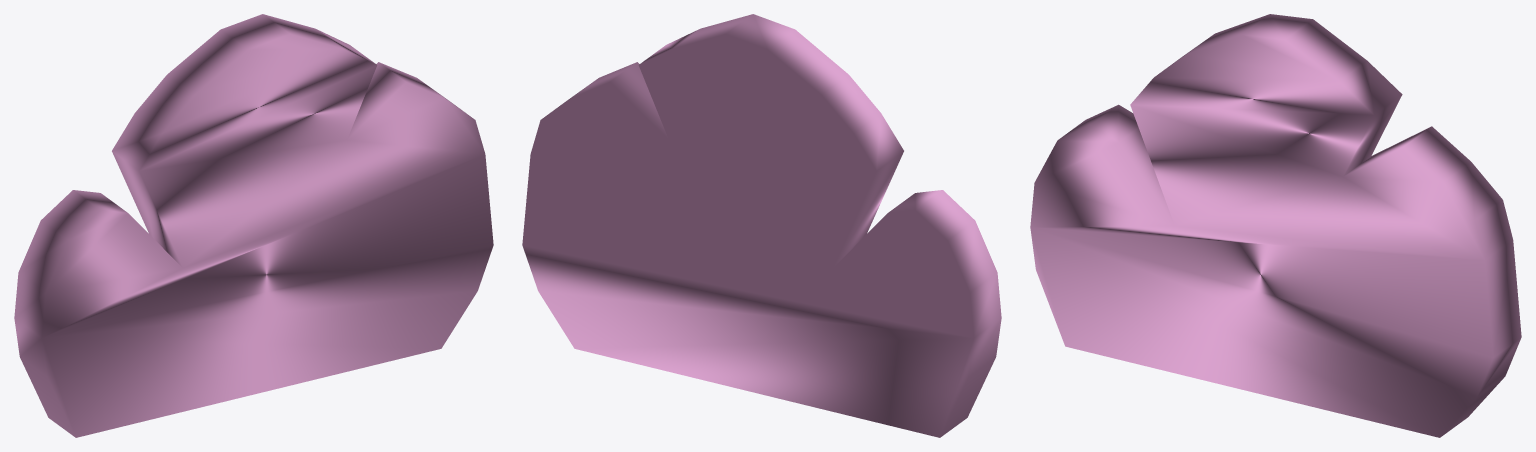
Rendered from BrainPlantBPink.glb.
3 renders of one model, left to right at view 1: azimuth 30°, elevation 25°; view 2: azimuth 150°, elevation 25°; view 3: azimuth 330°, elevation 25°, orthographic. The views are drawn at different scales.
Parts seen in each view (by area): view 1: BrainPlantBPink; view 2: BrainPlantBPink; view 3: BrainPlantBPink.
Boxes of the visible parts, x1,y1,x2,y2 form: BrainPlantBPink: [14, 14, 493, 437]; BrainPlantBPink: [522, 14, 1001, 437]; BrainPlantBPink: [1030, 14, 1521, 437].
Bounding box in the file's own units: 0.4937 × 0.3671 × 0.0522.
